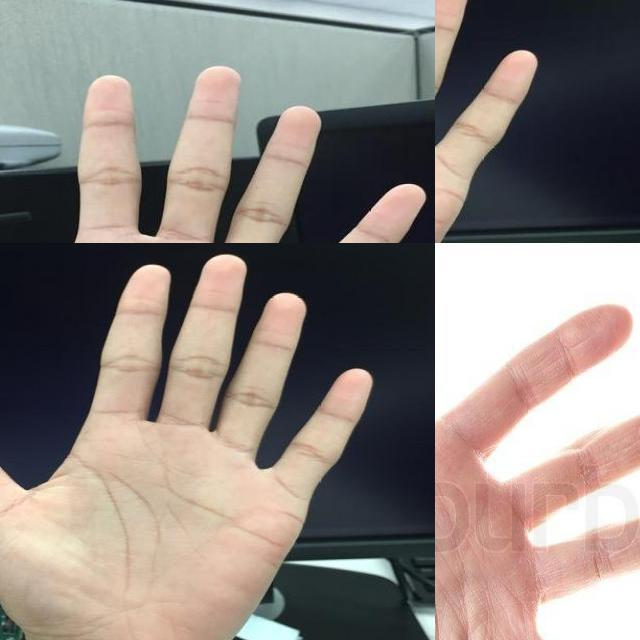hand: (0, 251, 373, 640), (0, 65, 430, 243), (435, 288, 640, 640), (435, 0, 640, 243)
